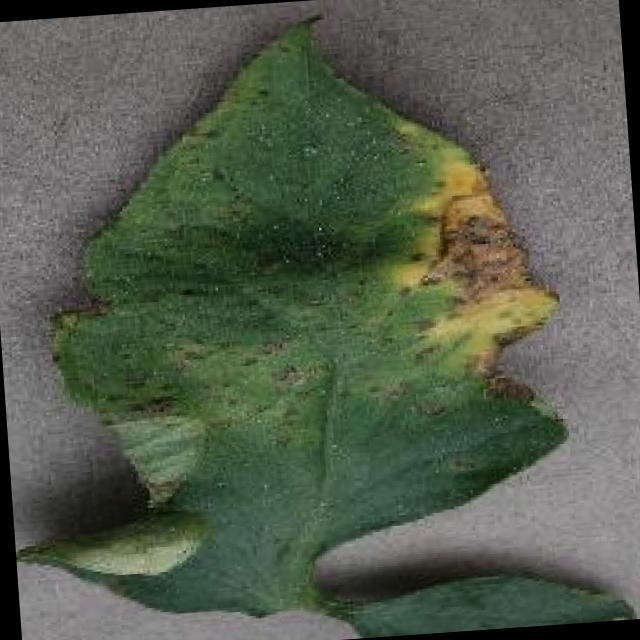Tomato bacterial spot leaf: (0, 0, 580, 636)
